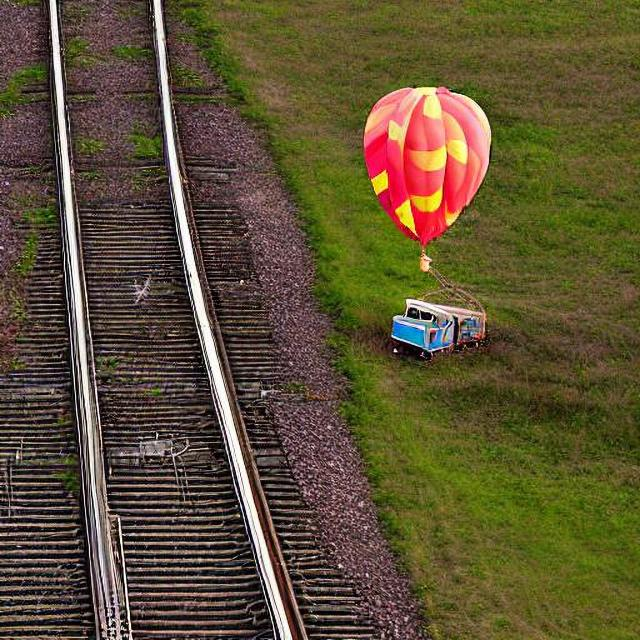balloon: (360, 84, 494, 270)
